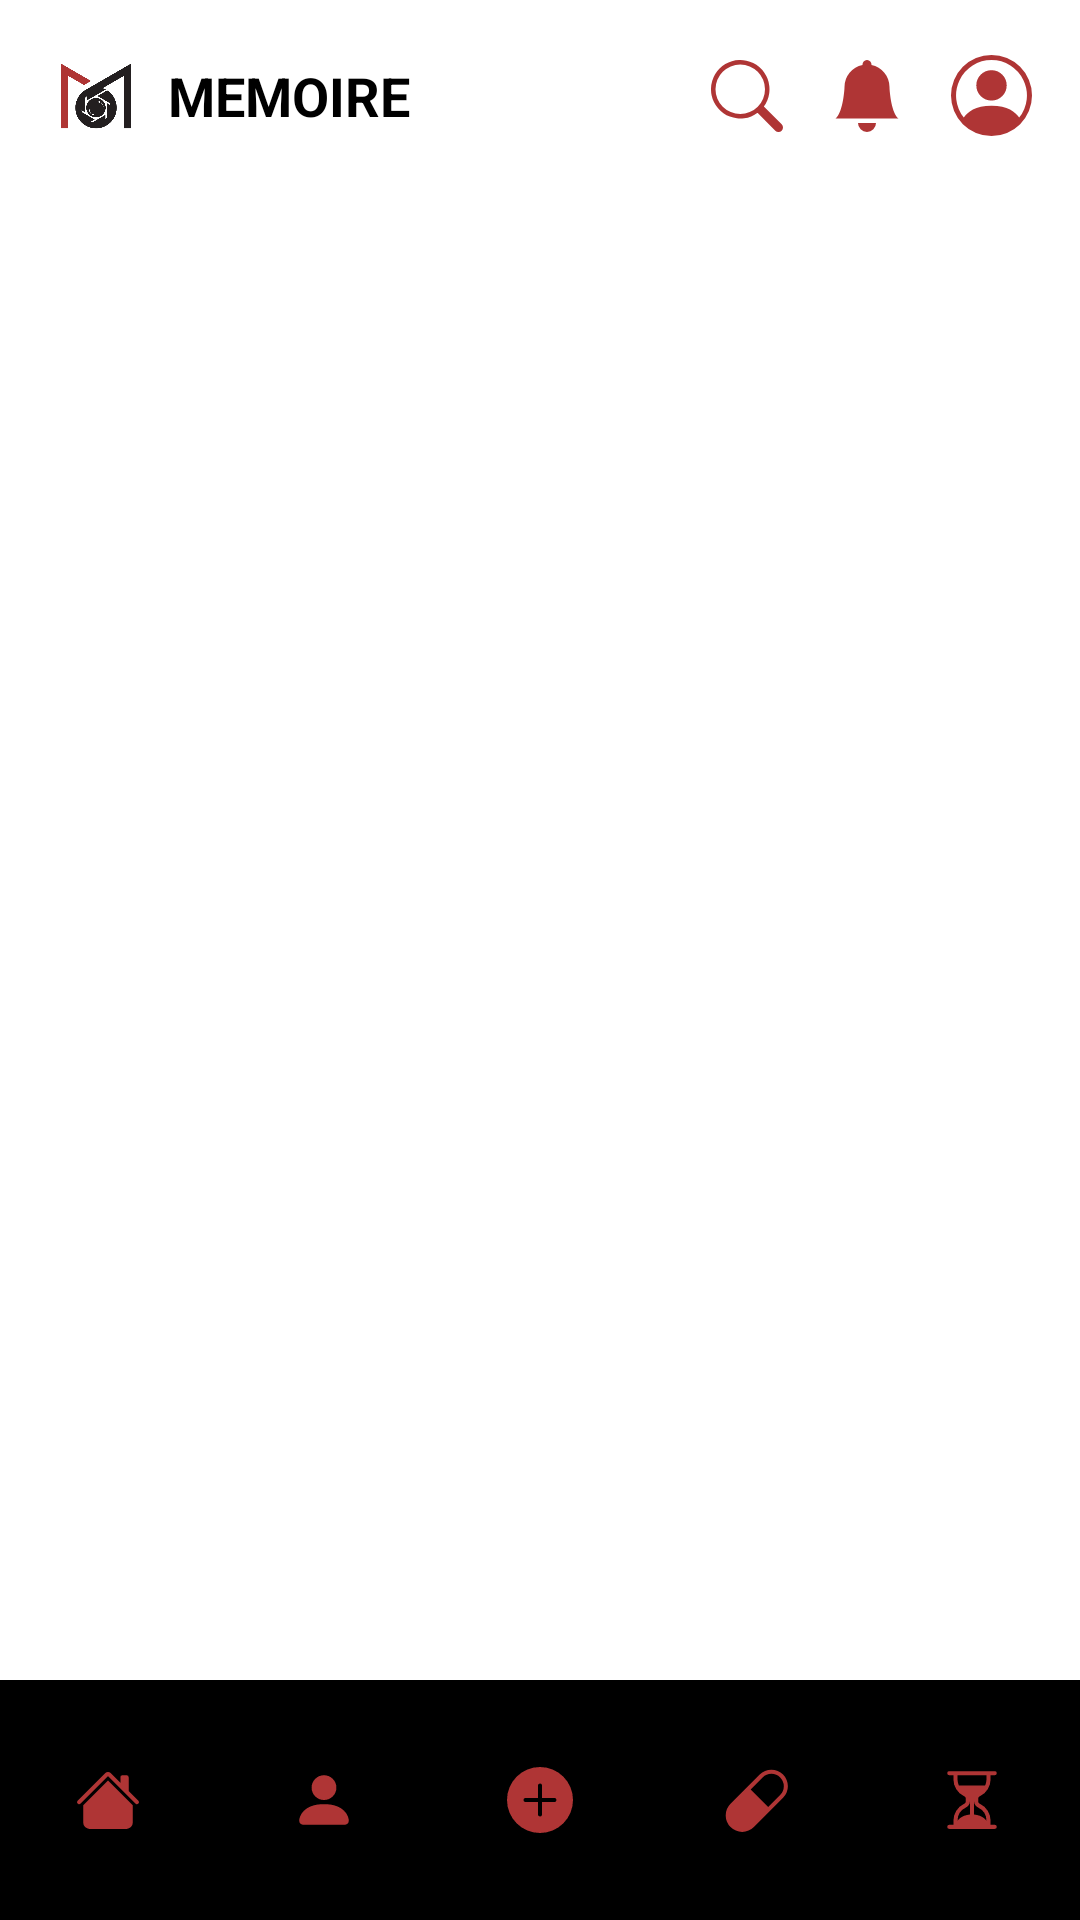

Locate icon controls on the screen. Image size 1080w x 1920h, boxes as {"x1": x1, "y1": y1, "x2": x2, "y2": y2}.
notification: {"x1": 836, "y1": 60, "x2": 898, "y2": 132}
search: {"x1": 711, "y1": 60, "x2": 783, "y2": 132}
